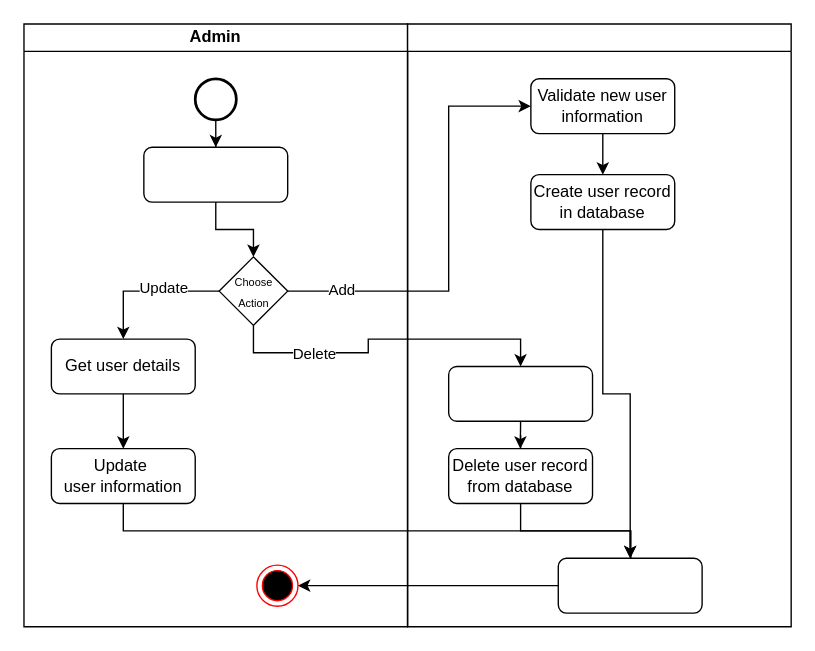
This 815x651 diagram has some shape labels left out. Here are the shapes that lost their labels. From the top down, the box of each, then its label:
(142, 146, 288, 202): Select Manage Users
(406, 23, 791, 627): System
(447, 365, 593, 421): Verify user existence
(557, 557, 702, 613): Send confirmation message
